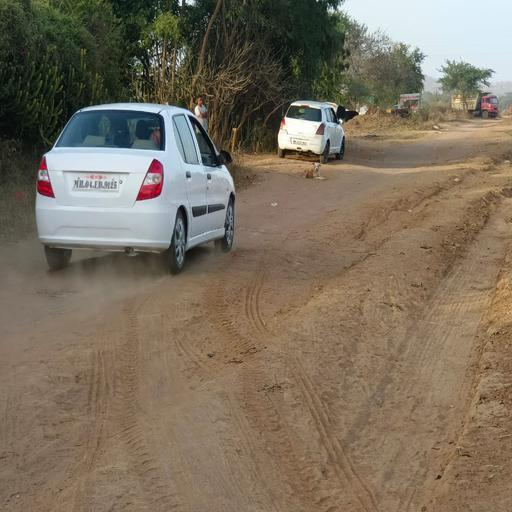vehicle_track: (0, 174, 472, 512), (163, 239, 386, 512), (344, 194, 512, 512), (239, 128, 473, 251), (68, 287, 193, 512)
